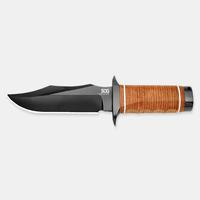knife: (5, 72, 196, 122)
